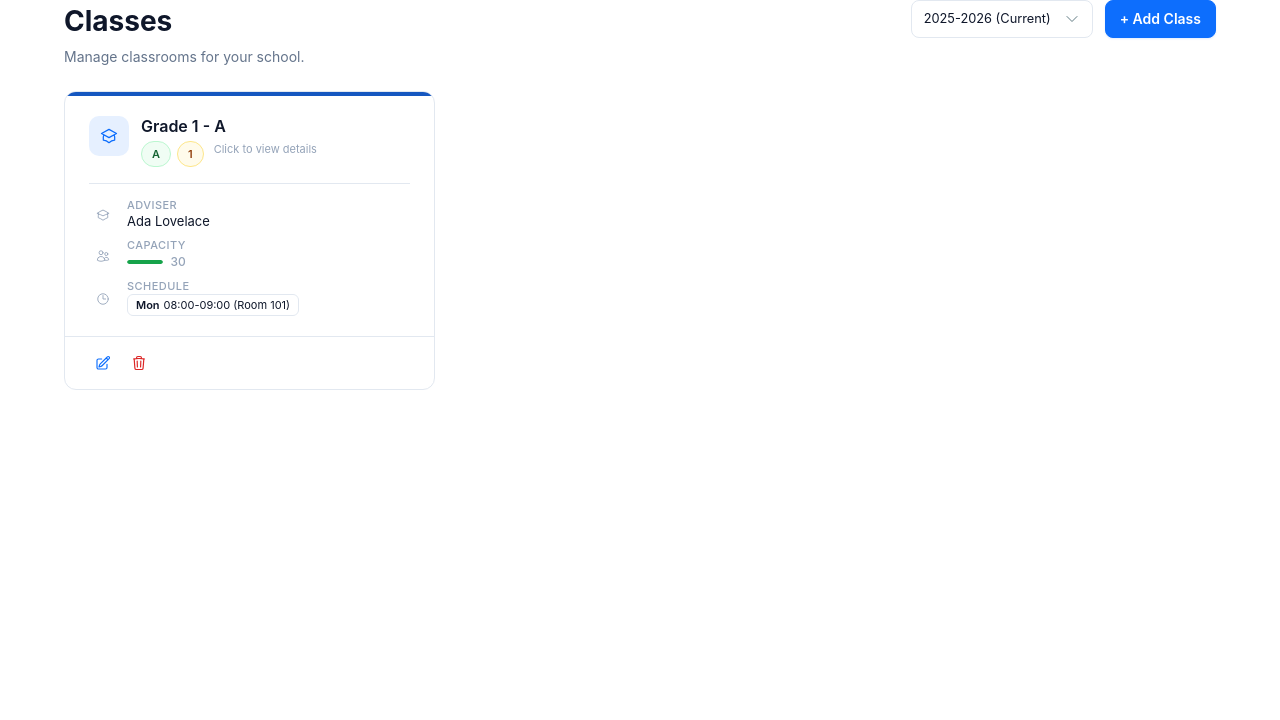
ManageClasses page › validates the required fields and creates a class with an adviser
Expected: the heading "Grade 1 - A" is shown, x1=141 y1=116 x2=226 y2=136
Click the button "+ Add Class" at [1160, 19], box x1=1105 y1=0 x2=1216 y2=38
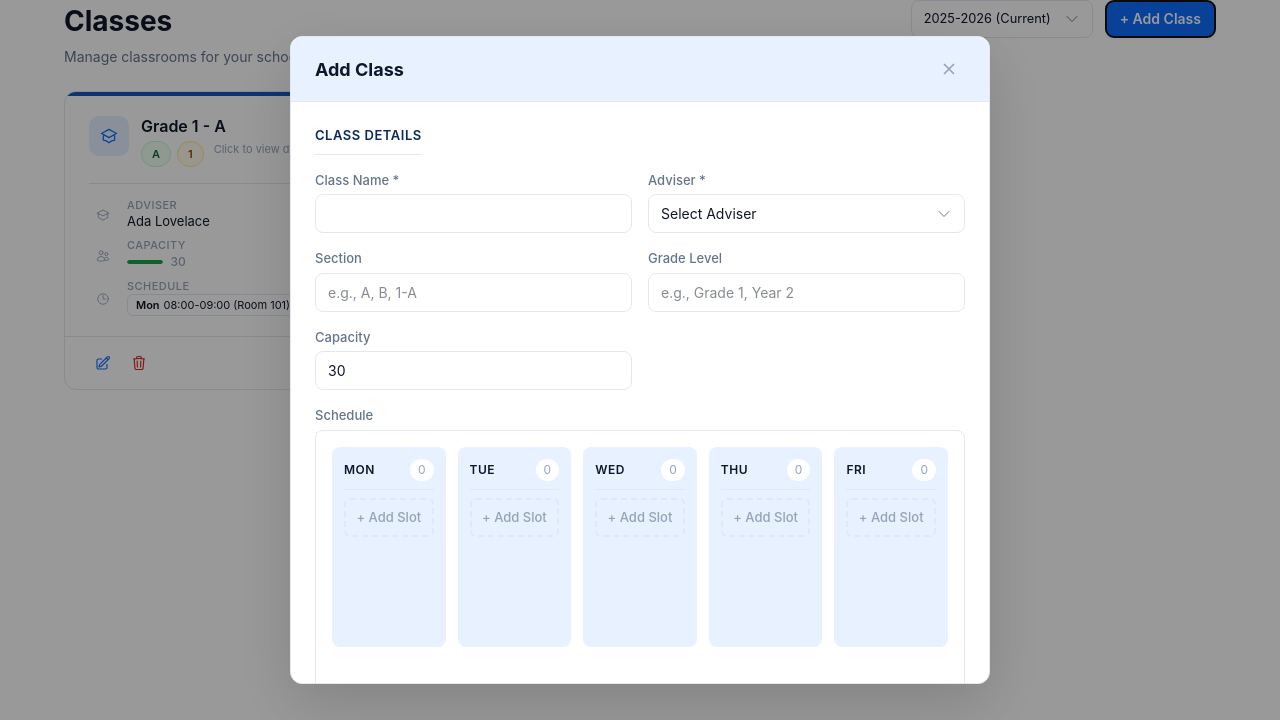
Type "Grade 2 - A" into the 1st field at [474, 214], box x1=315 y1=194 x2=632 y2=233
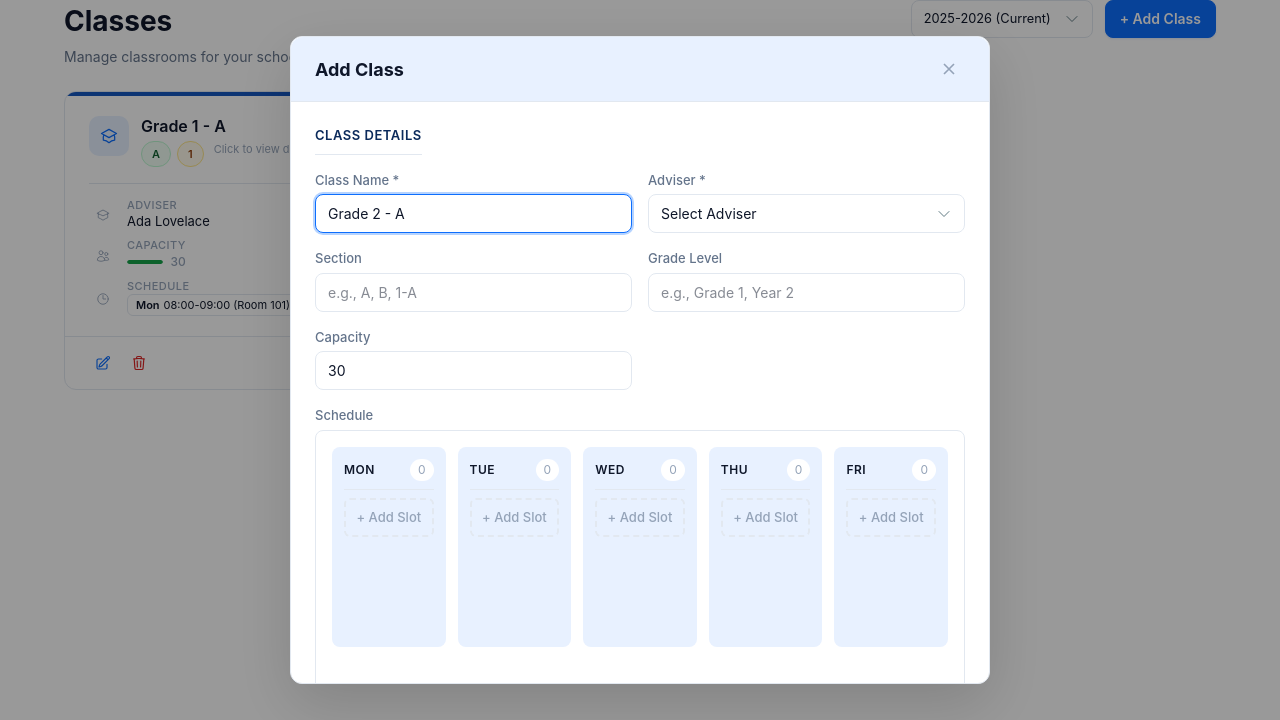
Select "Ada Lovelace" in the dropdown at [806, 214], box x1=648 y1=194 x2=965 y2=233
(page scrolled)
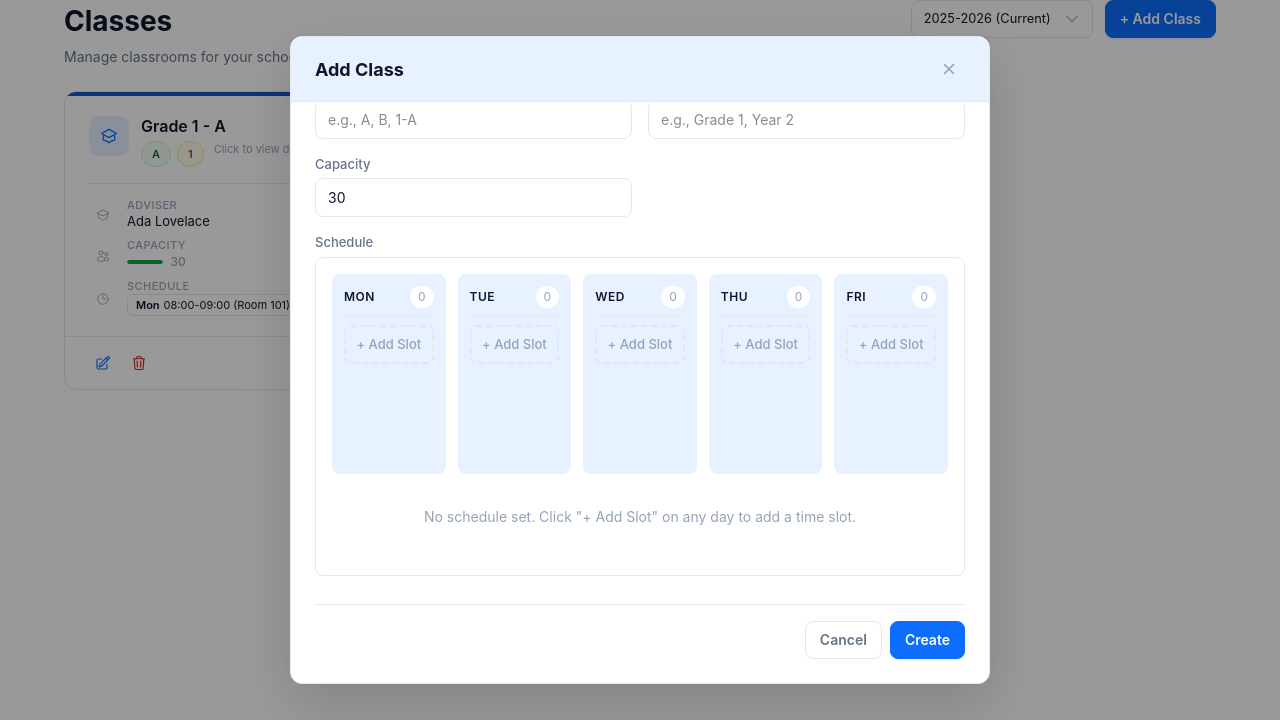
Click the button "Create" at [927, 640], box x1=890 y1=620 x2=965 y2=658
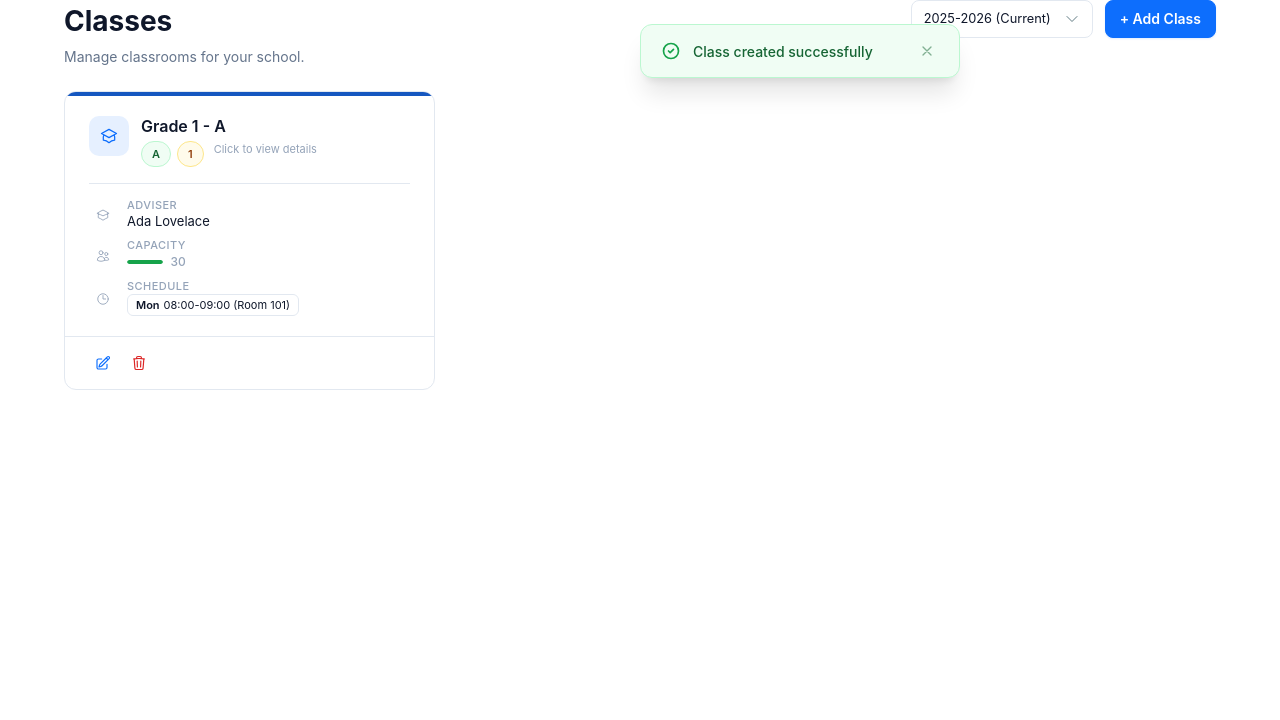
Result: the text "Class created successfully" is shown at x1=693 y1=40 x2=903 y2=62
